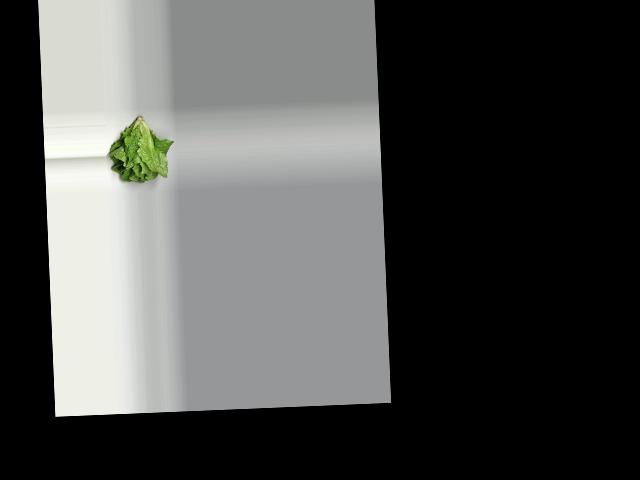lettuce: (103, 109, 173, 187)
